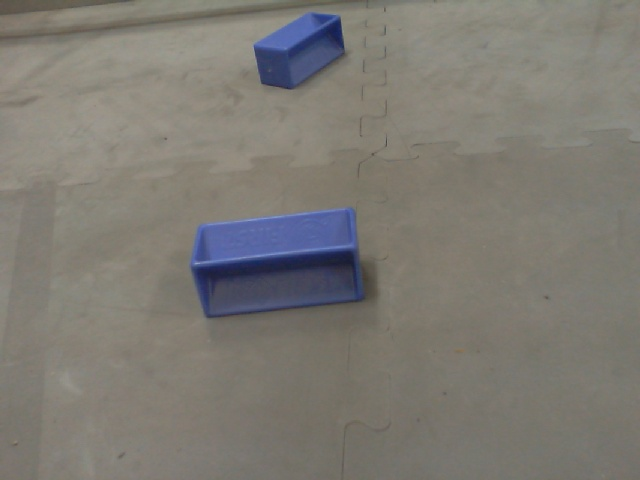BlueSample: (190, 203, 364, 324), (247, 10, 351, 93)
